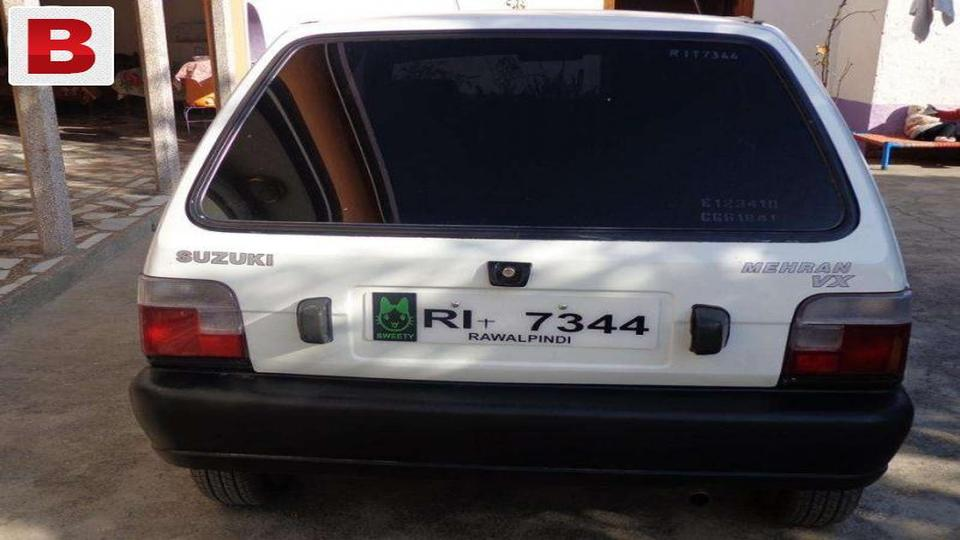NumberPlate: (371, 285, 660, 366)
